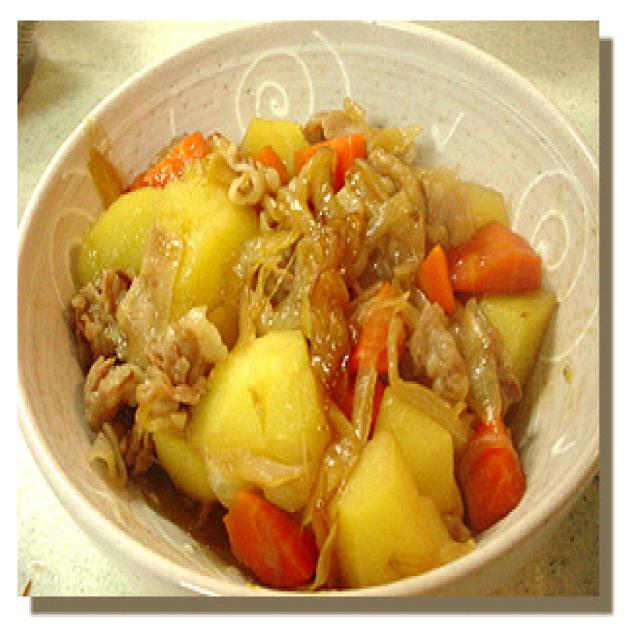牛肉菜式: (19, 23, 605, 597)
